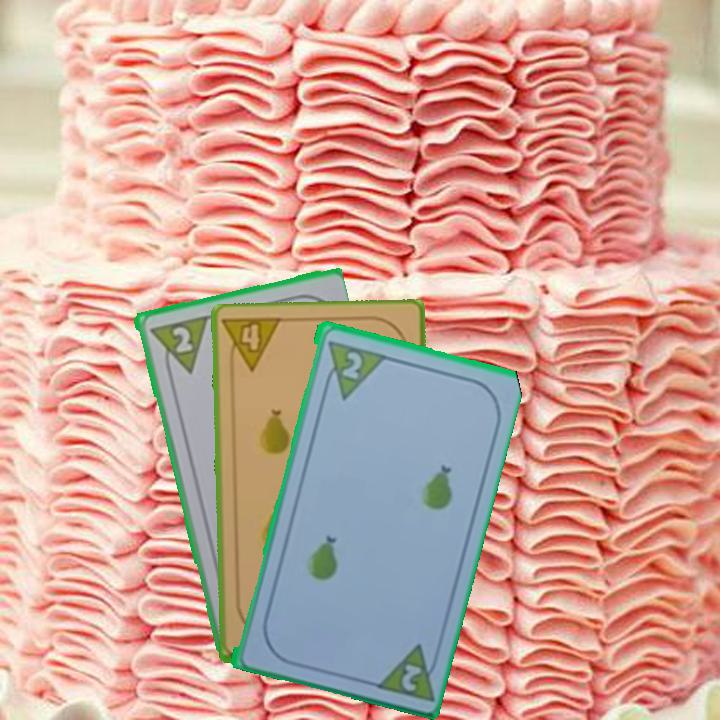2p: (369, 639, 443, 704), (145, 311, 210, 381), (338, 347, 365, 382)
4p: (219, 314, 284, 377)
